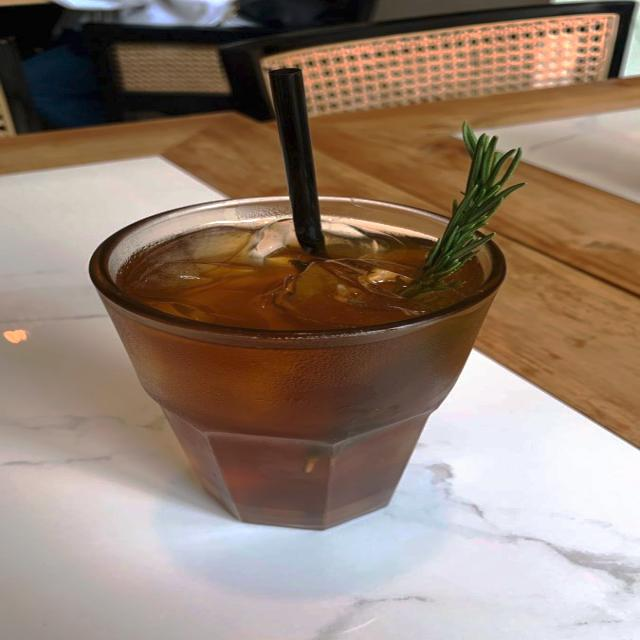drink: (90, 190, 498, 535)
